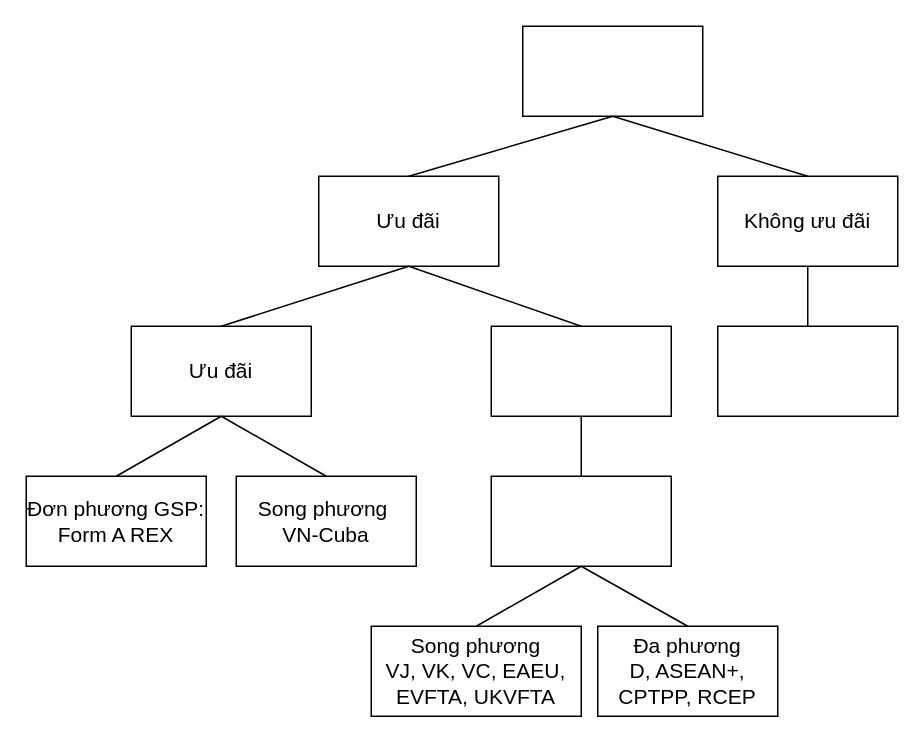
Image size: 924x743. Some labels were removed from this diagram. Each missing label, with the box of its shape:
Chứng nhận xuất xứ: (521, 25, 703, 116)
Form B: (716, 325, 898, 416)
FTAs: (490, 475, 671, 566)
Ưu đãi đặc biệt: (490, 325, 671, 416)
